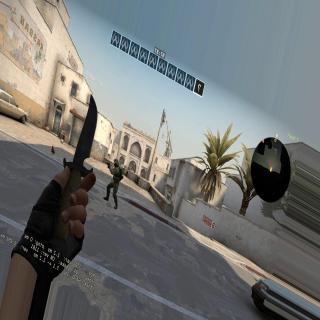CT-Body: (106, 156, 124, 203)
CT-Head: (112, 157, 120, 167)
